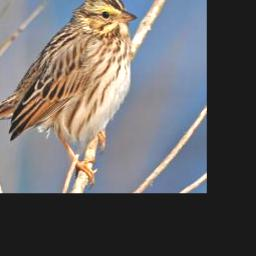Sparrow: (0, 0, 138, 192)
